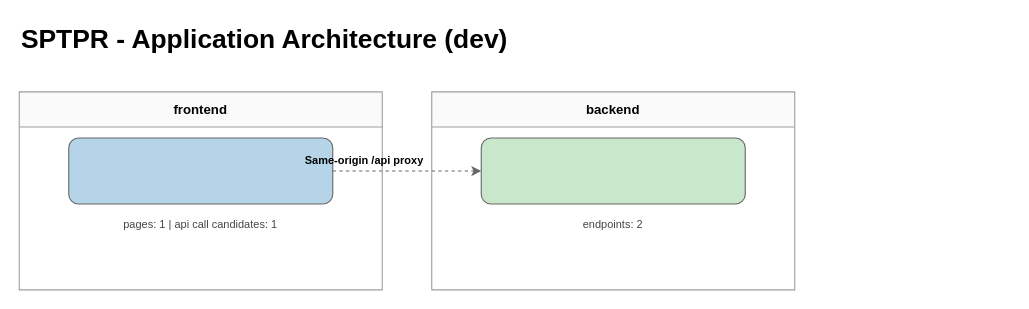
The diagram is 1029 pixels wide and 309 high, and some of its shapes have lost their labels. The shapes that lost their labels are listed below. From the top down, each one's centre as x and y in pixels, then its label:
(x=200, y=170): Infrastructure Test UI
(x=612, y=170): ASP.NET Core API
